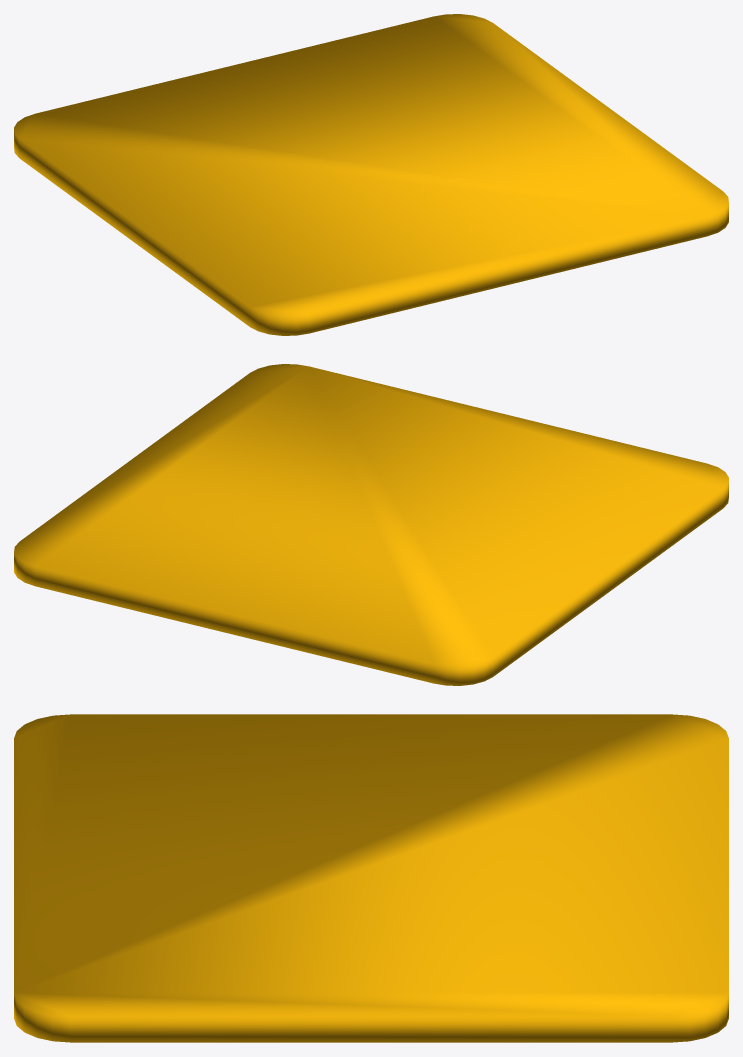
File: Gold_Rounded.glb
3 views of the same model, one above another, from view 1: azimuth 30°, elevation 25°; view 2: azimuth 150°, elevation 25°; view 3: azimuth 270°, elevation 25° (orthographic). The views are drawn at different scales.
Visible parts, largest first — view 1: PF_Golden_4; view 2: PF_Golden_4; view 3: PF_Golden_4.
Part boxes in pixels (box(x1,y1,x2,y2)): PF_Golden_4: box(14, 14, 728, 335); PF_Golden_4: box(14, 364, 728, 685); PF_Golden_4: box(14, 714, 728, 1042).
Bounding box in the file's own units: 1.17 × 0.0468 × 1.17.
3 materials, 1 textured.
